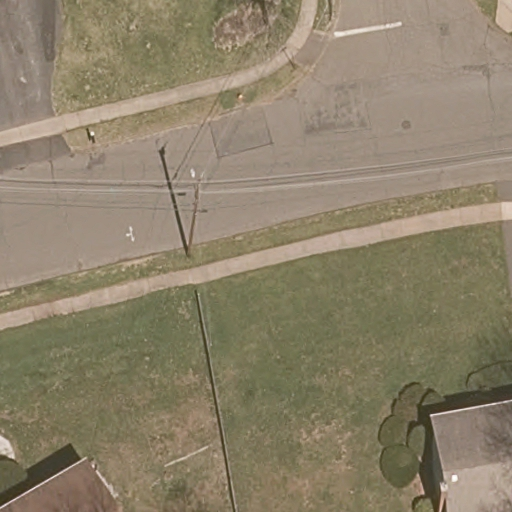DT: (187, 168, 204, 257)
